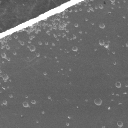corrosion: (92, 97, 104, 108), (1, 72, 11, 84), (115, 119, 127, 128), (99, 40, 109, 49), (58, 22, 68, 31), (47, 23, 57, 32), (115, 80, 123, 89), (1, 99, 8, 109), (71, 45, 79, 53), (22, 100, 30, 108), (30, 97, 38, 105), (1, 52, 9, 60), (1, 41, 8, 50), (98, 22, 106, 29), (28, 45, 36, 52), (28, 34, 35, 41), (36, 39, 43, 46), (97, 4, 105, 10), (7, 93, 14, 99), (19, 40, 25, 47), (12, 34, 19, 40), (87, 7, 93, 13), (47, 96, 53, 101), (73, 23, 79, 28), (66, 115, 72, 120), (78, 7, 84, 12), (12, 50, 17, 55), (42, 70, 47, 75), (64, 14, 69, 19), (78, 30, 83, 35), (84, 17, 89, 22), (68, 67, 73, 72), (112, 50, 116, 56), (51, 42, 55, 47), (62, 34, 67, 38)
